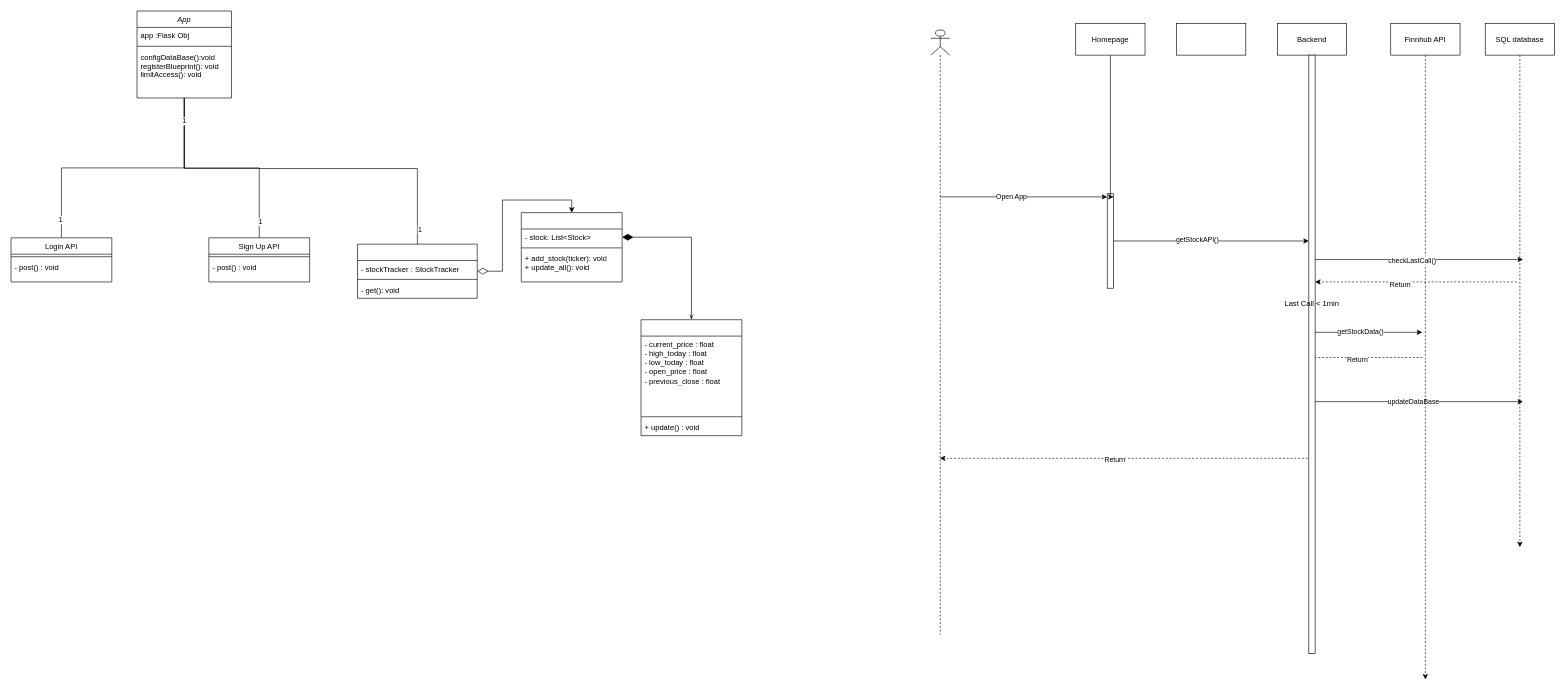
The diagram is 1566 pixels wide and 696 high, and some of its shapes have lost their labels. The shapes that lost their labels are listed below. From the top down, each one's box as (x1, y1, x2, y2) in pixels, then its label:
(1176, 23, 1246, 55): Object
(521, 212, 622, 282): Stock Tracker
(357, 243, 477, 298): Stock API
(640, 319, 742, 436): Stock
